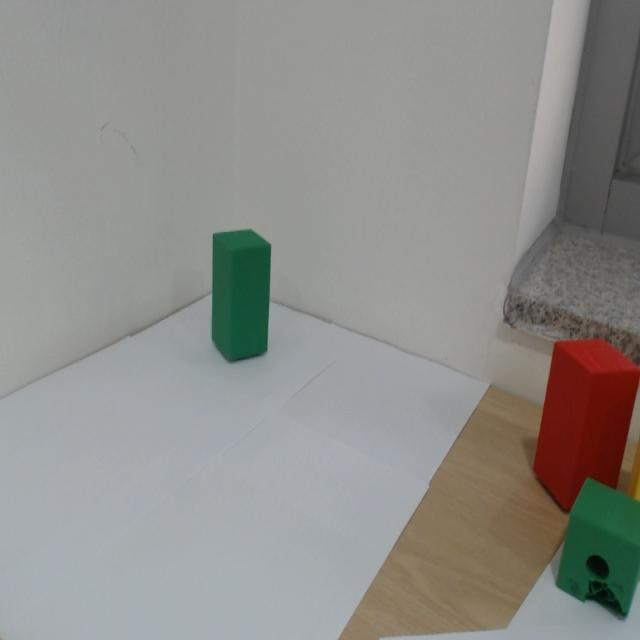cube: (193, 178, 305, 395)
